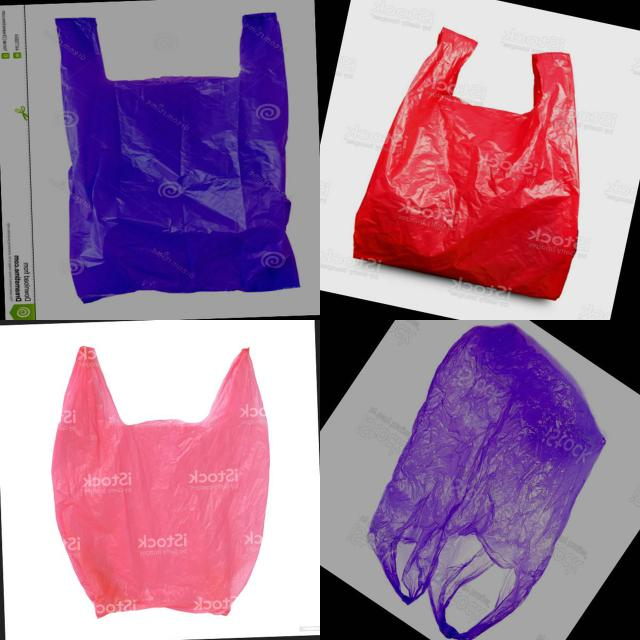Single-layer Plastic: (368, 324, 605, 640), (55, 12, 299, 302), (354, 28, 580, 300), (52, 346, 270, 617)
